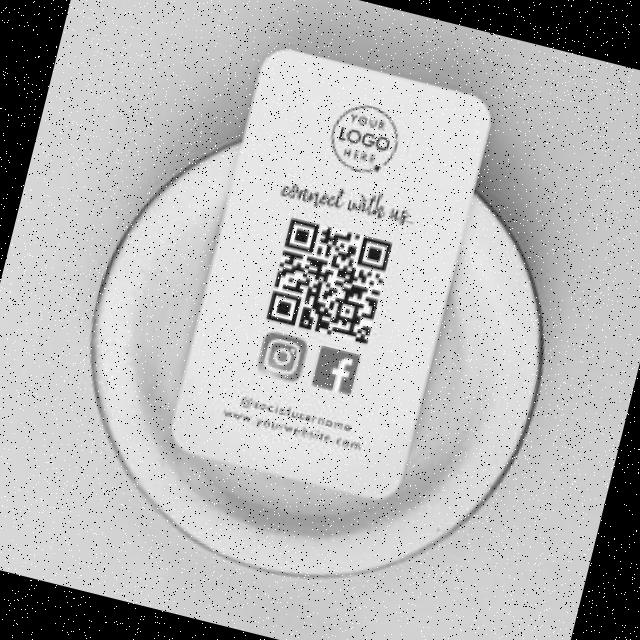QR-codes: (264, 212, 396, 346)
